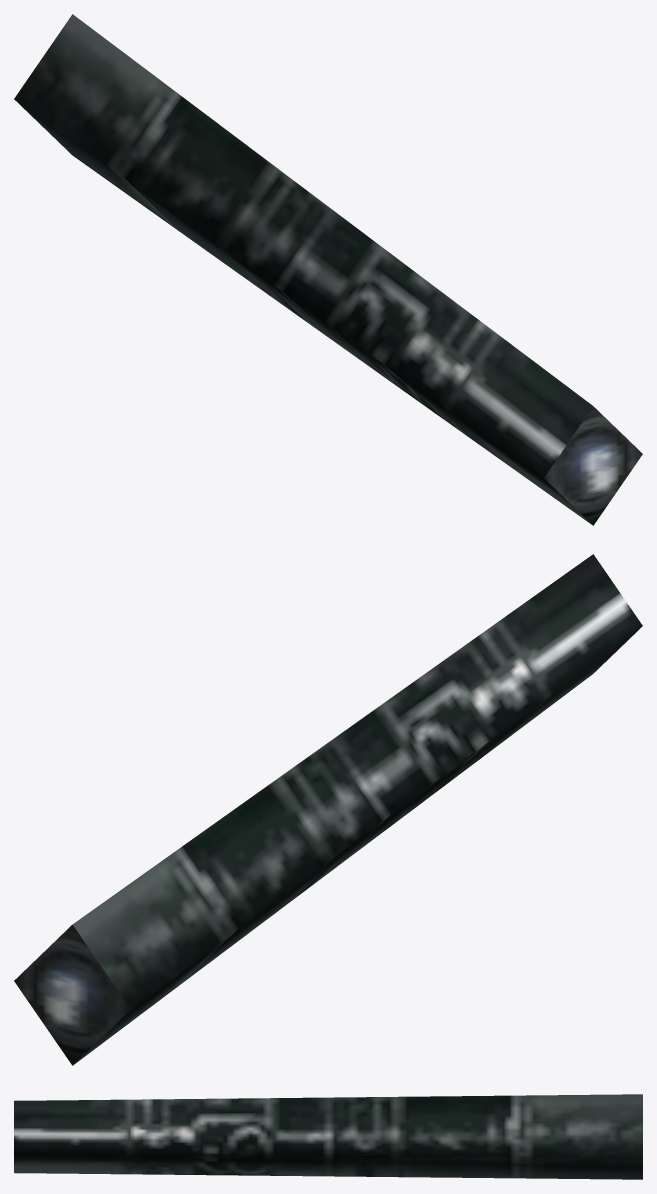
The model's file is wp_scope_sm_s02_l2.fbx.
The picture shows the model from 3 angles, top to bottom: view 1: azimuth 30°, elevation 25°; view 2: azimuth 150°, elevation 25°; view 3: azimuth 270°, elevation 25°; orthographic projection. The views are drawn at different scales.
Parts seen in each view (by area): view 1: mesh_node; view 2: mesh_node; view 3: mesh_node.
Part boxes in pixels (box(x1,y1,x2,y2)): mesh_node: box(14, 14, 642, 525); mesh_node: box(14, 554, 642, 1065); mesh_node: box(14, 1094, 642, 1179).
Size of the model in its own units: 0.0235 by 0.0271 by 0.1809.
1 material, 1 textured.
